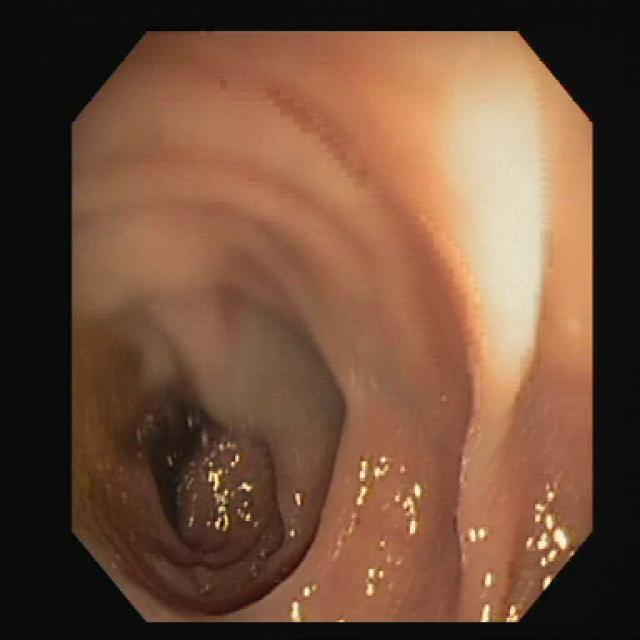tumor: (163, 422, 282, 567)
